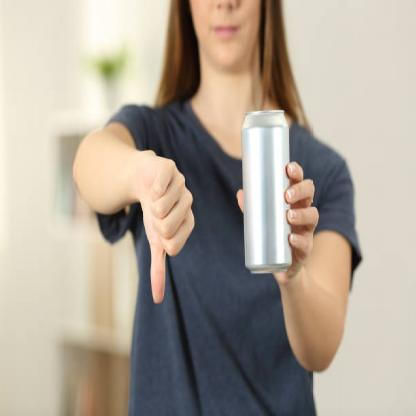thumb_down: (134, 145, 199, 309)
